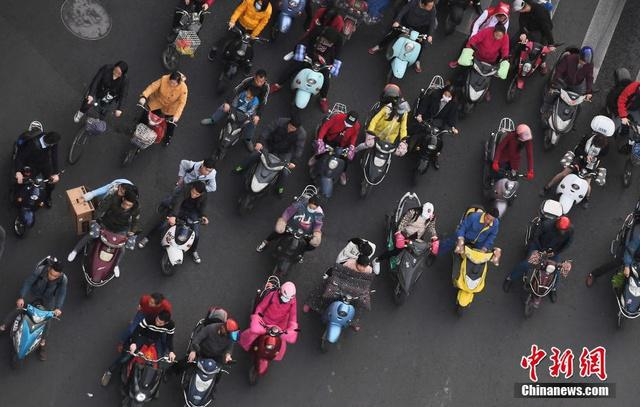bicycle: (124, 106, 168, 169), (73, 93, 106, 167), (167, 10, 204, 73), (225, 33, 257, 92)
motorbike: (76, 217, 127, 293), (118, 349, 181, 404), (156, 210, 204, 282), (520, 253, 568, 321), (14, 295, 57, 370), (11, 167, 50, 242), (545, 86, 587, 149), (514, 36, 551, 107), (248, 140, 279, 224), (456, 48, 492, 119), (292, 50, 333, 112), (475, 151, 521, 206), (317, 285, 358, 343), (272, 224, 308, 289), (388, 25, 426, 83), (186, 354, 232, 401), (553, 158, 590, 215), (313, 146, 349, 204), (419, 113, 447, 179), (612, 254, 638, 310), (362, 135, 390, 186), (223, 101, 248, 158), (254, 326, 275, 382)
person: (383, 195, 436, 300), (447, 195, 497, 304), (34, 246, 86, 322), (335, 243, 385, 308), (492, 118, 547, 175), (190, 311, 244, 368), (291, 15, 343, 69), (134, 283, 179, 345), (556, 37, 599, 94), (182, 148, 229, 198), (149, 66, 187, 126), (537, 215, 582, 265), (364, 95, 408, 146), (26, 126, 67, 180), (322, 110, 365, 159), (268, 111, 310, 160), (262, 282, 301, 333), (170, 175, 212, 222), (102, 181, 144, 228), (288, 196, 331, 240), (469, 24, 511, 66), (93, 61, 128, 111), (245, 68, 273, 121), (480, 4, 517, 39), (233, 1, 265, 32), (423, 88, 449, 122)
